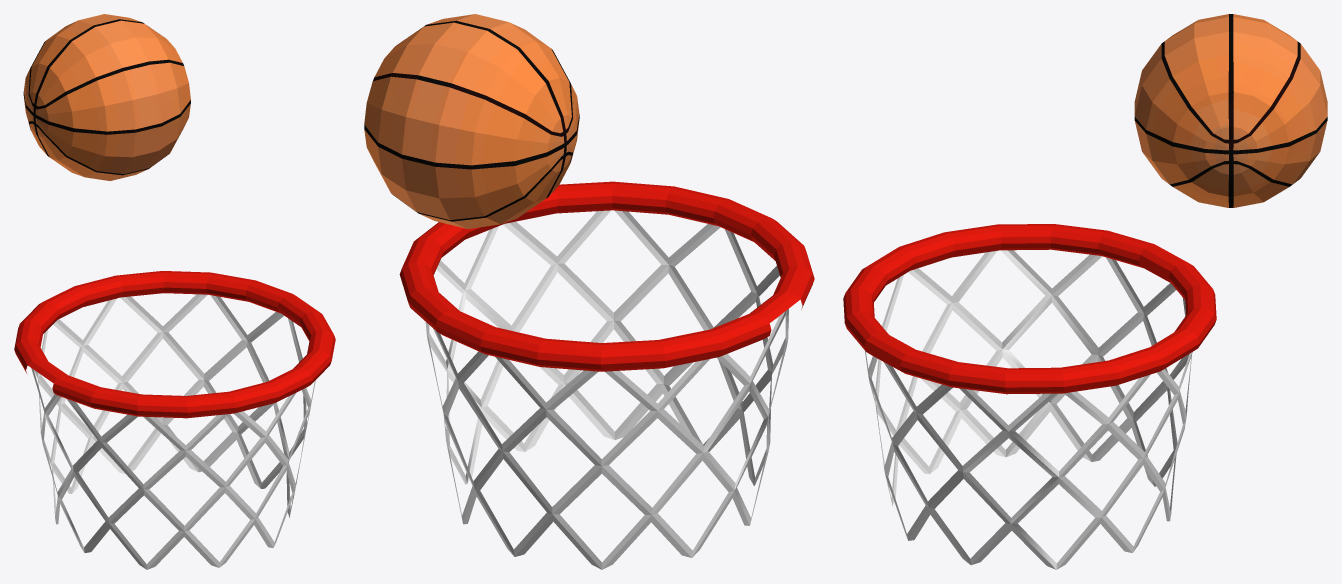
The model's file is Basketball.glb.
The picture shows the model from 3 angles, left to right: view 1: azimuth 30°, elevation 25°; view 2: azimuth 150°, elevation 25°; view 3: azimuth 270°, elevation 25°; orthographic projection. The views are drawn at different scales.
Parts seen in each view (by area): view 1: ball, net, hoop; view 2: ball, net, hoop; view 3: ball, net, hoop.
Part boxes in pixels (x1,y1,x2,y2): ball: [23, 14, 190, 180]; net: [31, 294, 315, 569]; hoop: [14, 271, 335, 418]; ball: [364, 14, 579, 228]; net: [425, 210, 788, 569]; hoop: [399, 181, 814, 371]; ball: [1134, 14, 1327, 207]; net: [865, 250, 1192, 569]; hoop: [843, 224, 1216, 394].
Size of the model in its own units: 2.1 by 3.12 by 2.74.
Materials: 3 (1 with a texture image).
